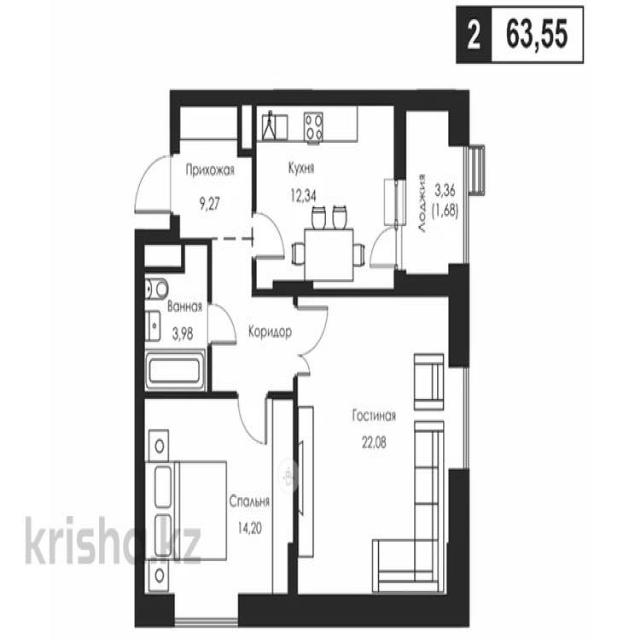balcony: (403, 106, 466, 281)
bathroom: (142, 237, 208, 389), (212, 243, 252, 391)
hallway: (175, 104, 252, 238)
kitchen: (257, 101, 398, 286)
living_room: (294, 296, 458, 608), (140, 395, 290, 608)
